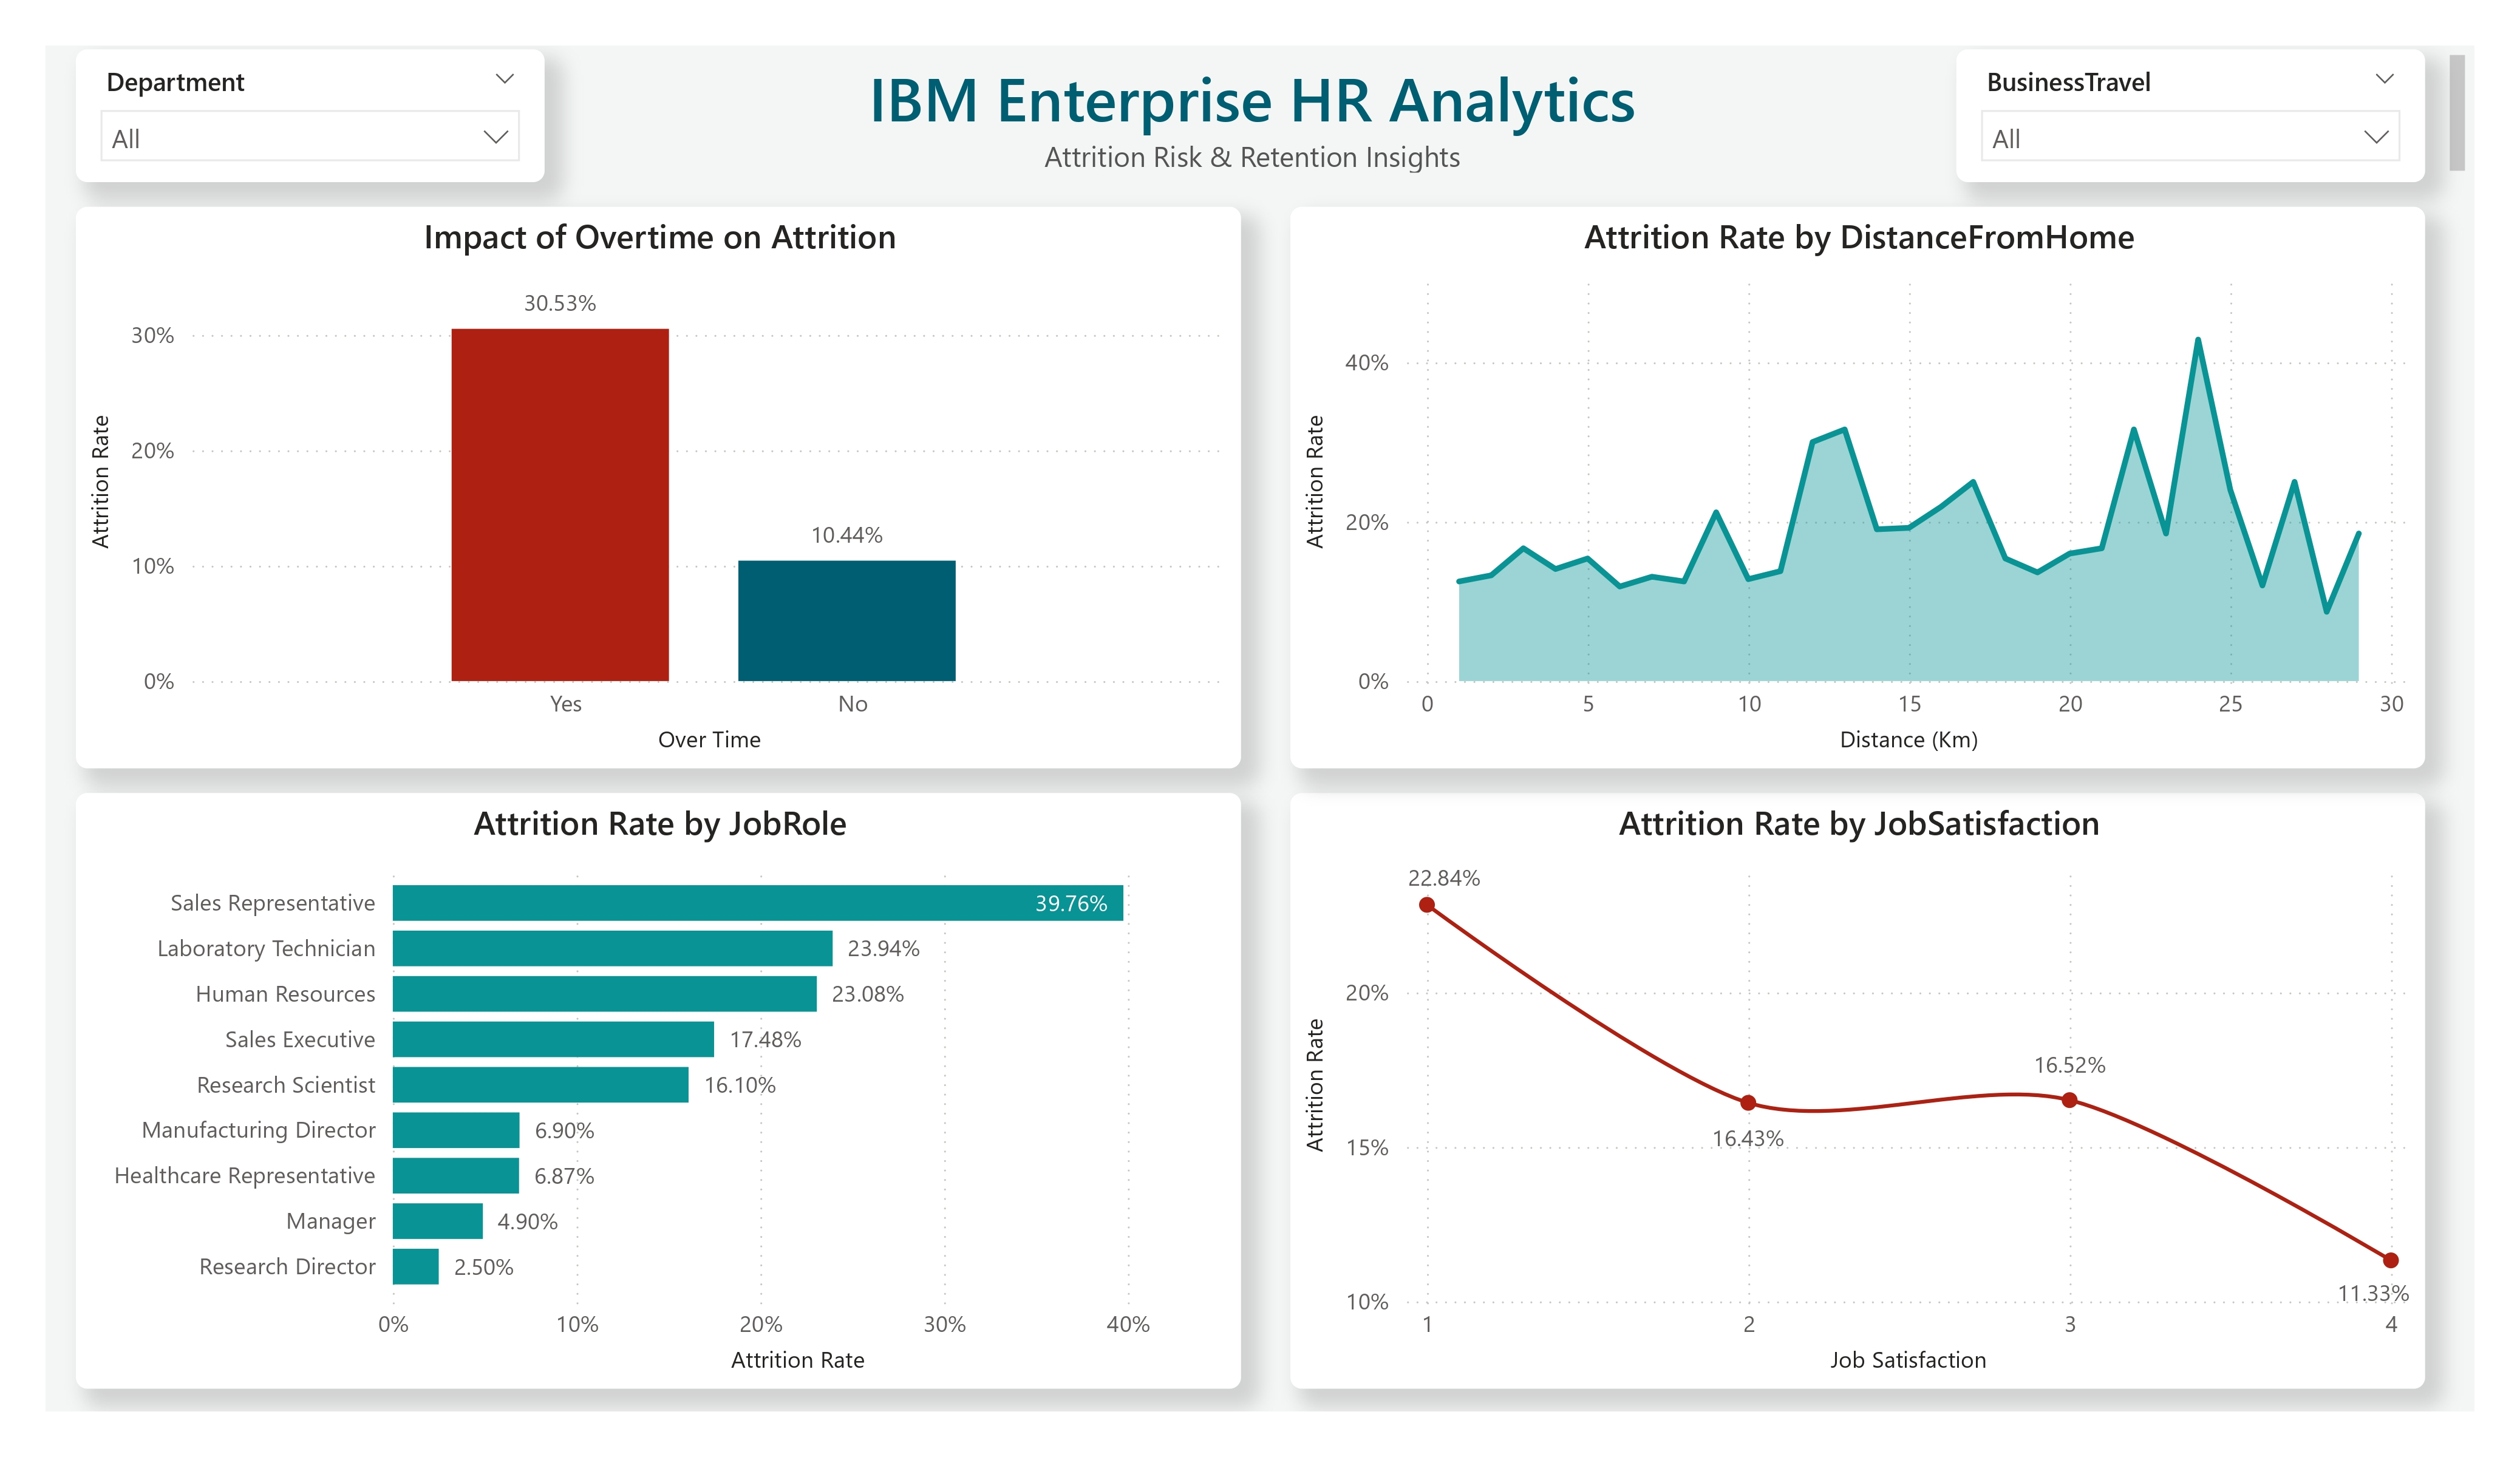

Layout of this report page (visuals, bound fields, positions):
{"tool":"powerbi","page":{"name":"Attrition & Risk Analysis","canvas":[1280,720],"ordinal":1},"visuals":[{"type":"textbox","box":[0,0,1280,71.6],"z":0},{"type":"slicer","fields":{"Values":["hr_analytics_db vw_dim_job_details.Department"]},"box":[16.1,2,246.9,69.5],"z":1000},{"type":"slicer","fields":{"Values":["hr_analytics_db vw_dim_job_details.BusinessTravel"]},"box":[1006.9,2,246.9,69.5],"z":2000},{"type":"clusteredColumnChart","title":"Impact of Overtime on Attrition","fields":{"Y":["_Measures (2).Attrition Rate"],"Category":["hr_analytics_db vw_dim_job_details.OverTime"]},"box":[16.3,84.6,613.5,296.6],"z":3000},{"type":"clusteredBarChart","fields":{"Y":["_Measures (2).Attrition Rate"],"Category":["hr_analytics_db vw_dim_job_details.JobRole"]},"box":[16.3,394.4,613.5,313.9],"z":4000},{"type":"areaChart","fields":{"Category":["hr_analytics_db vw_fact_employee_performance.JobSatisfaction"],"Y":["_Measures (2).Attrition Rate"]},"box":[656.3,394.4,597.2,313.9],"z":5000},{"type":"areaChart","fields":{"Y":["_Measures (2).Attrition Rate"],"Category":["hr_analytics_db vw_fact_employee_performance.DistanceFromHome"]},"box":[656.3,84.6,597.2,296.6],"z":6000}]}

Visuals, with their boxes on the page's 1280x720 design canvas (x1, y1, x2, y2). These are canvas units, not pixel positions in the 2520x1457 screenshot, which may show the page scaled, cropped or inside an application window:
textbox: [0, 0, 1280, 72]
slicer - hr_analytics_db vw_dim_job_details.Department: [16, 2, 263, 72]
slicer - hr_analytics_db vw_dim_job_details.BusinessTravel: [1007, 2, 1254, 72]
"Impact of Overtime on Attrition" clusteredColumnChart: [16, 85, 630, 381]
clusteredBarChart - _Measures (2).Attrition Rate x hr_analytics_db vw_dim_job_details.JobRole: [16, 394, 630, 708]
areaChart - hr_analytics_db vw_fact_employee_performance.JobSatisfaction x _Measures (2).Attrition Rate: [656, 394, 1254, 708]
areaChart - _Measures (2).Attrition Rate x hr_analytics_db vw_fact_employee_performance.DistanceFromHome: [656, 85, 1254, 381]
